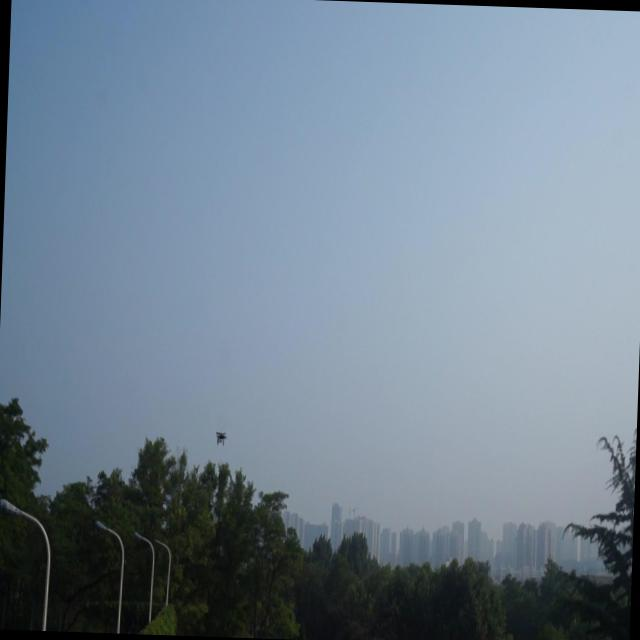drone: (211, 424, 229, 446)
